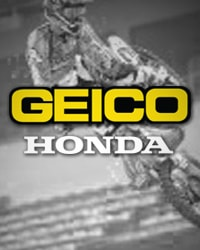geico: (8, 85, 192, 124)
